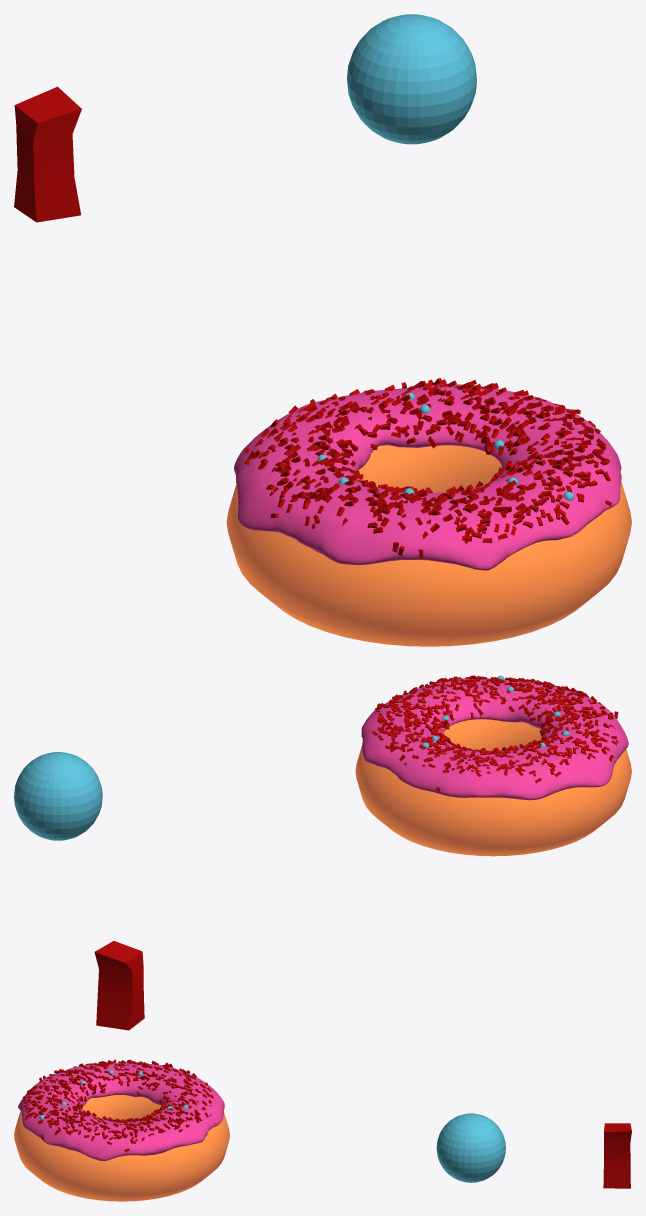
The model's file is Donut3.glb.
3 renders of one model, top to bottom at view 1: azimuth 30°, elevation 25°; view 2: azimuth 150°, elevation 25°; view 3: azimuth 270°, elevation 25°, orthographic. The views are drawn at different scales.
Visible parts, largest first — view 1: Torus, Liquid_Domain, Sphere_8, Cube001_789; view 2: Torus, Liquid_Domain, Sphere_8, Cube001_789; view 3: Liquid_Domain, Torus, Sphere_8, Cube001_789.
Boxes of the visible parts, x1,y1,x2,y2 form: Torus: (226, 445, 631, 646); Liquid_Domain: (234, 384, 621, 570); Sphere_8: (347, 14, 476, 144); Cube001_789: (14, 86, 81, 222); Torus: (355, 719, 631, 856); Liquid_Domain: (361, 678, 628, 800); Sphere_8: (14, 752, 102, 840); Cube001_789: (94, 941, 144, 1030); Liquid_Domain: (18, 1062, 224, 1160); Torus: (14, 1095, 229, 1201); Sphere_8: (436, 1113, 505, 1182); Cube001_789: (603, 1123, 631, 1188).
Bounding box in the file's own units: 4.64 × 2.02 × 8.58.
